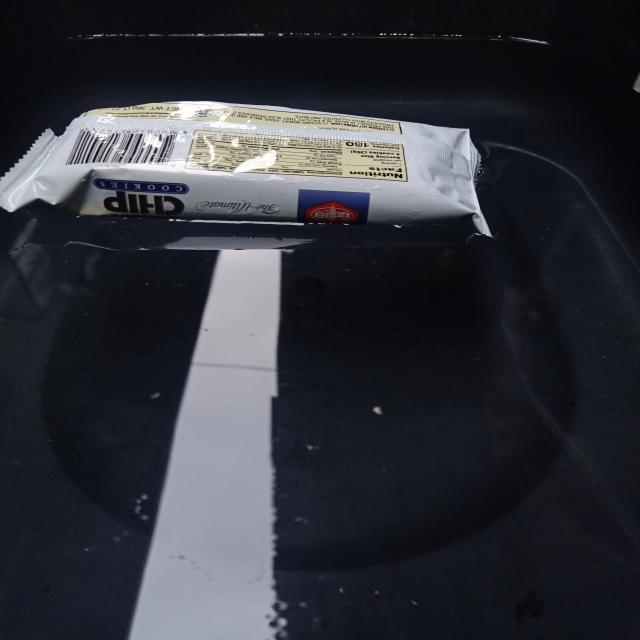Plastic Wrapper: (0, 102, 489, 235)
